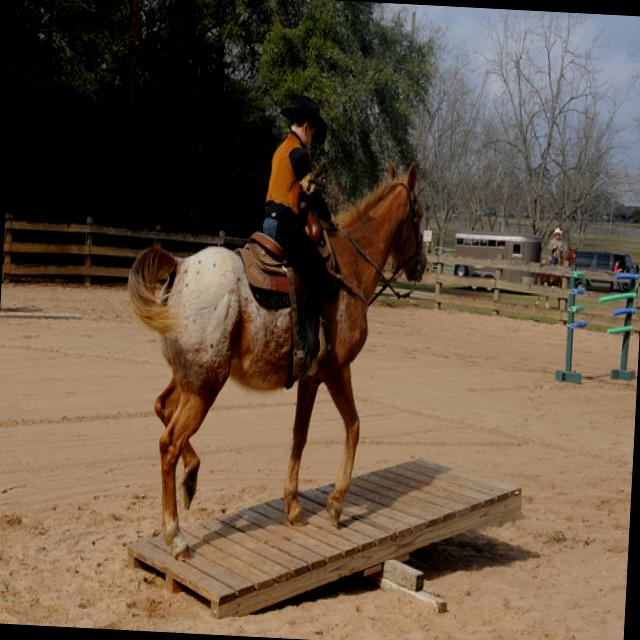Vehicle: (452, 230, 542, 283), (575, 249, 637, 276)
